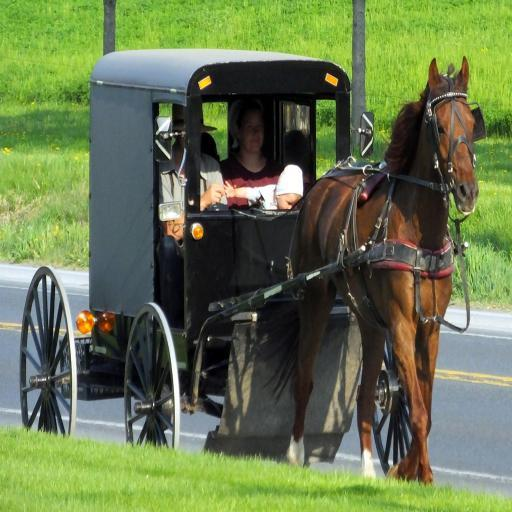Horse: (257, 57, 479, 485)
